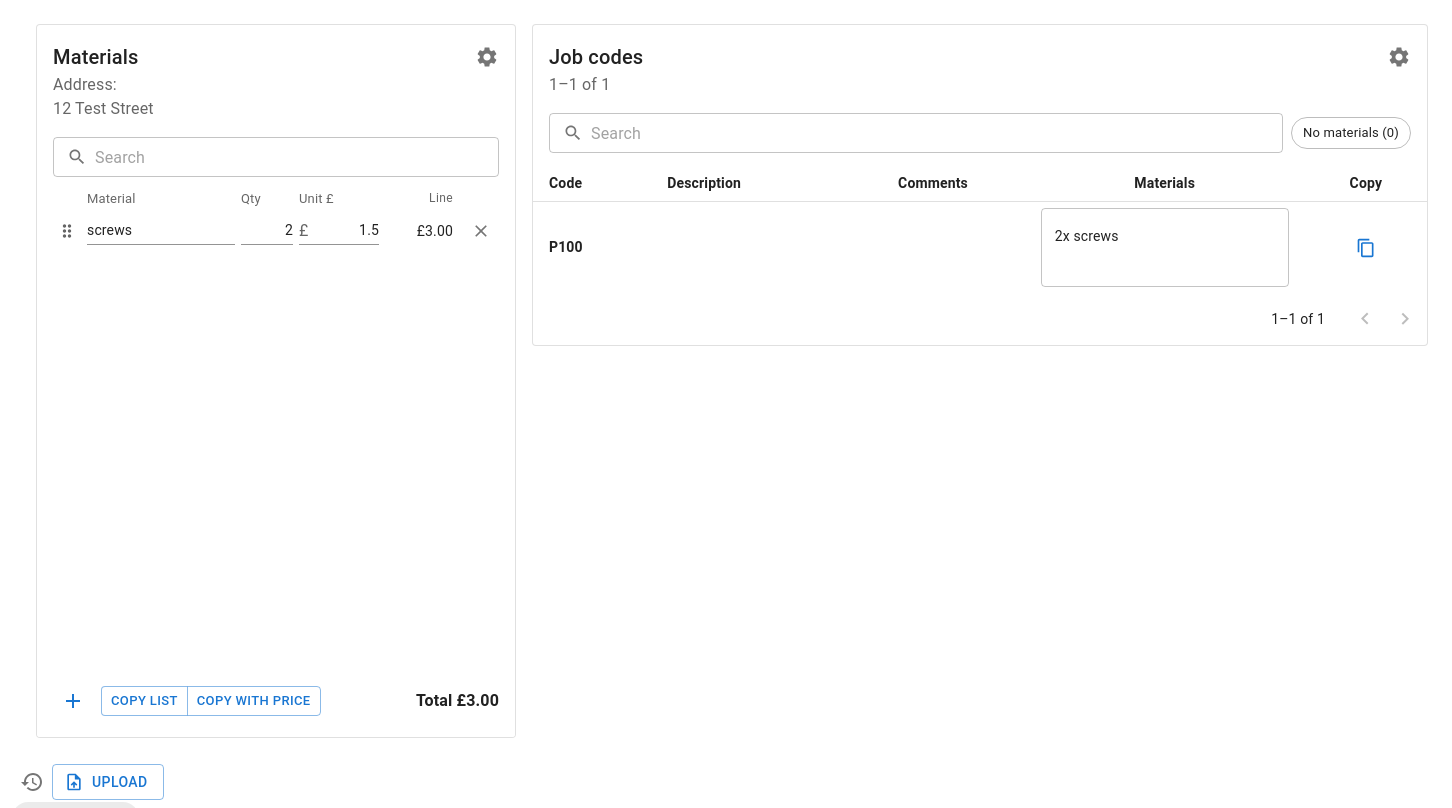
Test: MaterialsPage › opens another saved job from Recent jobs
Expected: the text "P100" is shown, [533,202,651,293]
Click the button named "Recent jobs": (32, 782) [12,762,52,802]
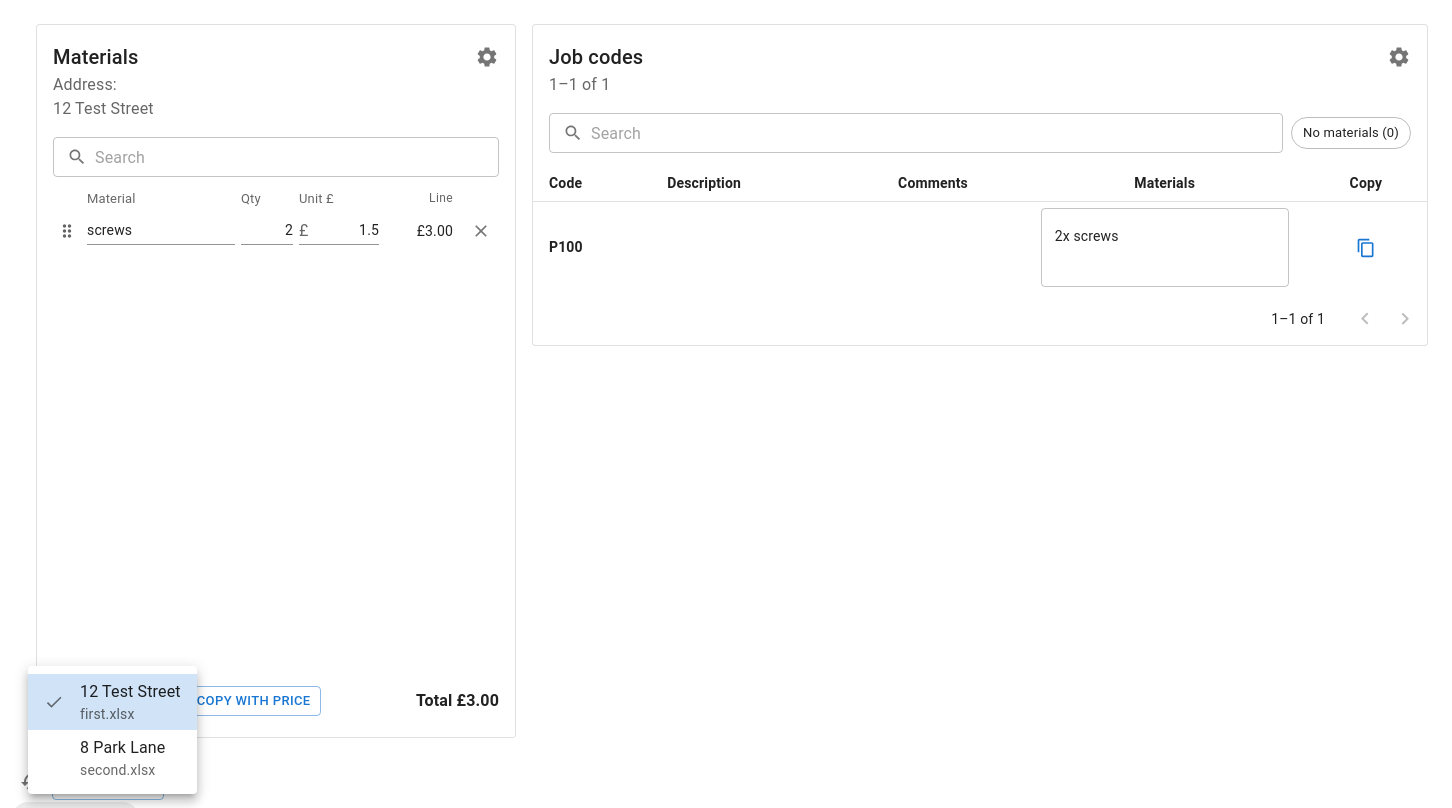
Click the menu item "8 Park Lane second.xlsx": (123, 758) [80,738,166,778]
(page scrolled)
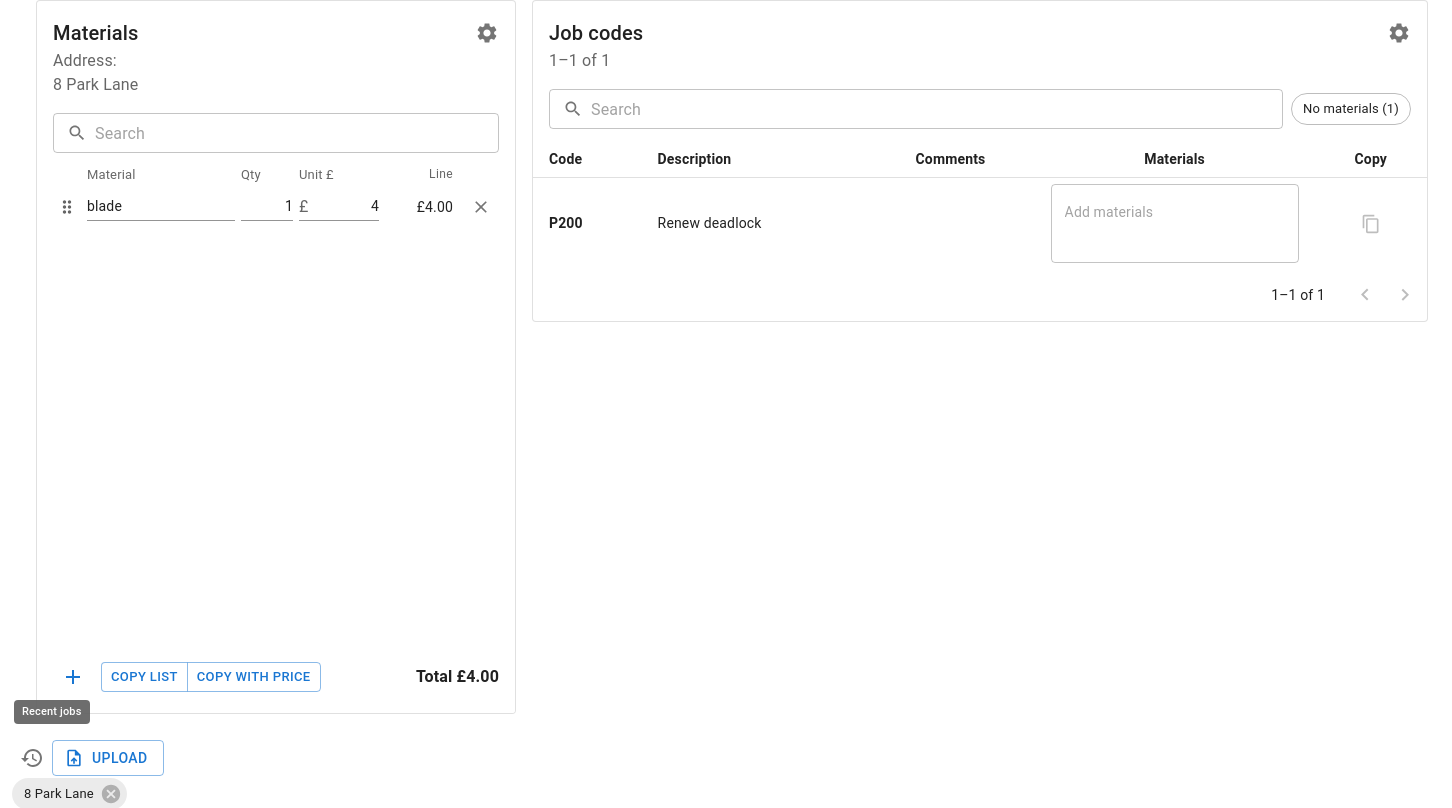
Result: the text "P200" is shown at [533,178,642,269]
Result: the text "P100" is gone
Result: the field named "Quantity for blade" holds "1" at [241,192,293,221]
